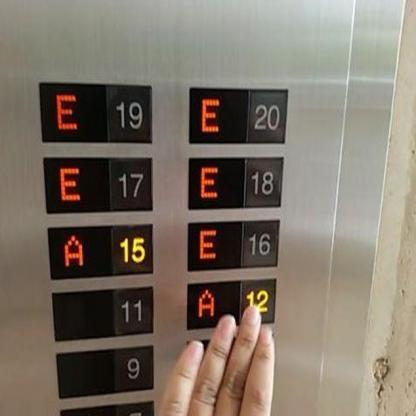11: (110, 284, 155, 338)
12: (237, 275, 277, 325)
15: (108, 221, 154, 277)
16: (237, 216, 281, 270)
17: (106, 154, 154, 212)
18: (242, 152, 285, 210)
19: (103, 79, 154, 145)
20: (243, 84, 289, 147)
9: (112, 342, 155, 393)
A: (46, 223, 112, 281), (183, 277, 242, 332)
E: (38, 78, 110, 145), (41, 153, 112, 215), (186, 84, 250, 146), (186, 155, 247, 211), (184, 218, 244, 272)
